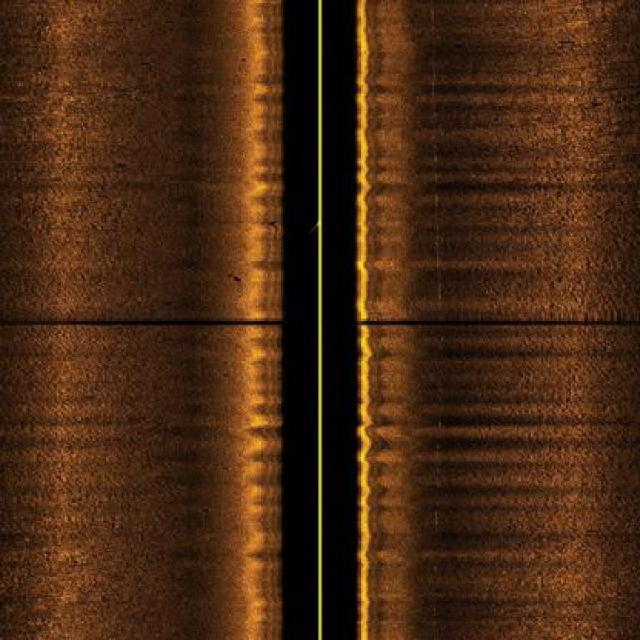mine: (232, 271, 246, 284)
